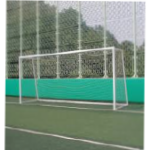goals: (15, 45, 131, 113)
